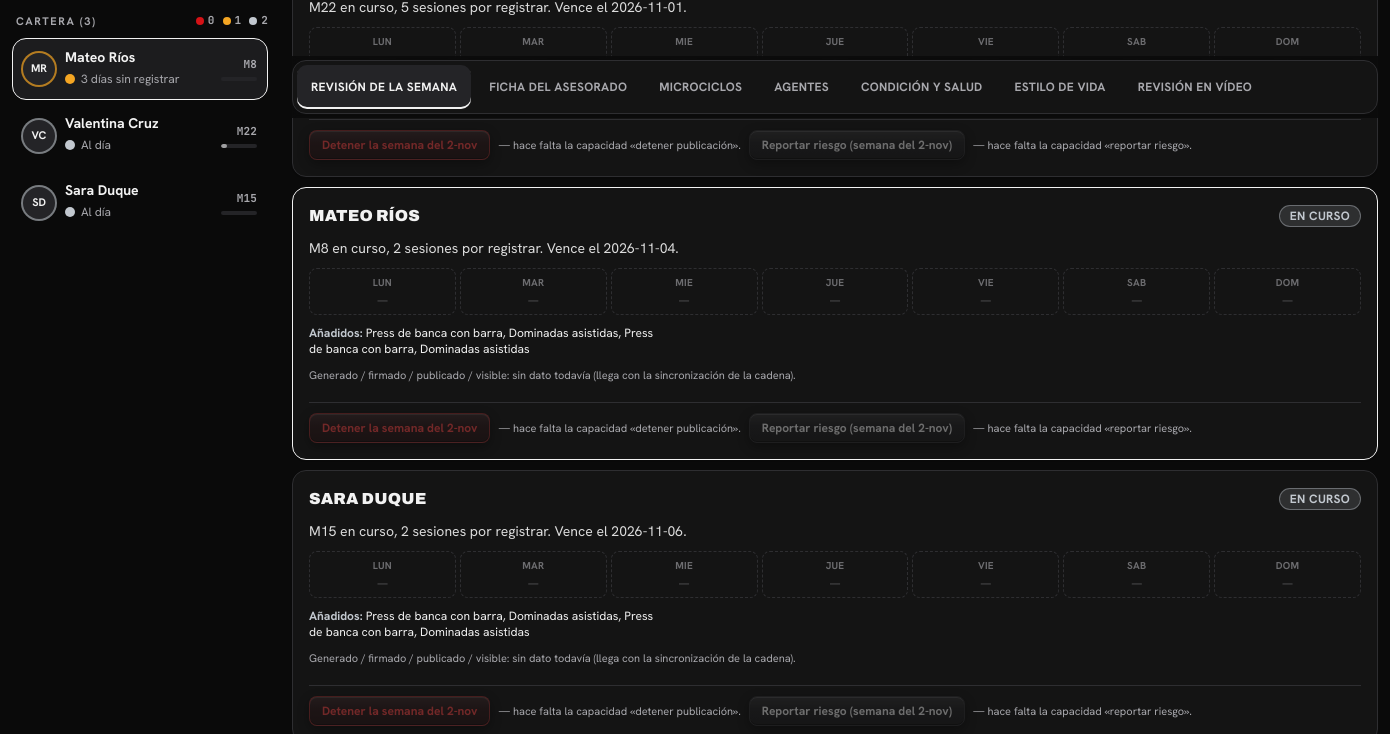
Test: ConsolaCoachPage › desde la Revisión, «Ver ficha» elige a la persona y abre su ficha
(page scrolled)
Click the button "Sara Duque": (401, 499) [309, 487, 492, 511]
(page scrolled)
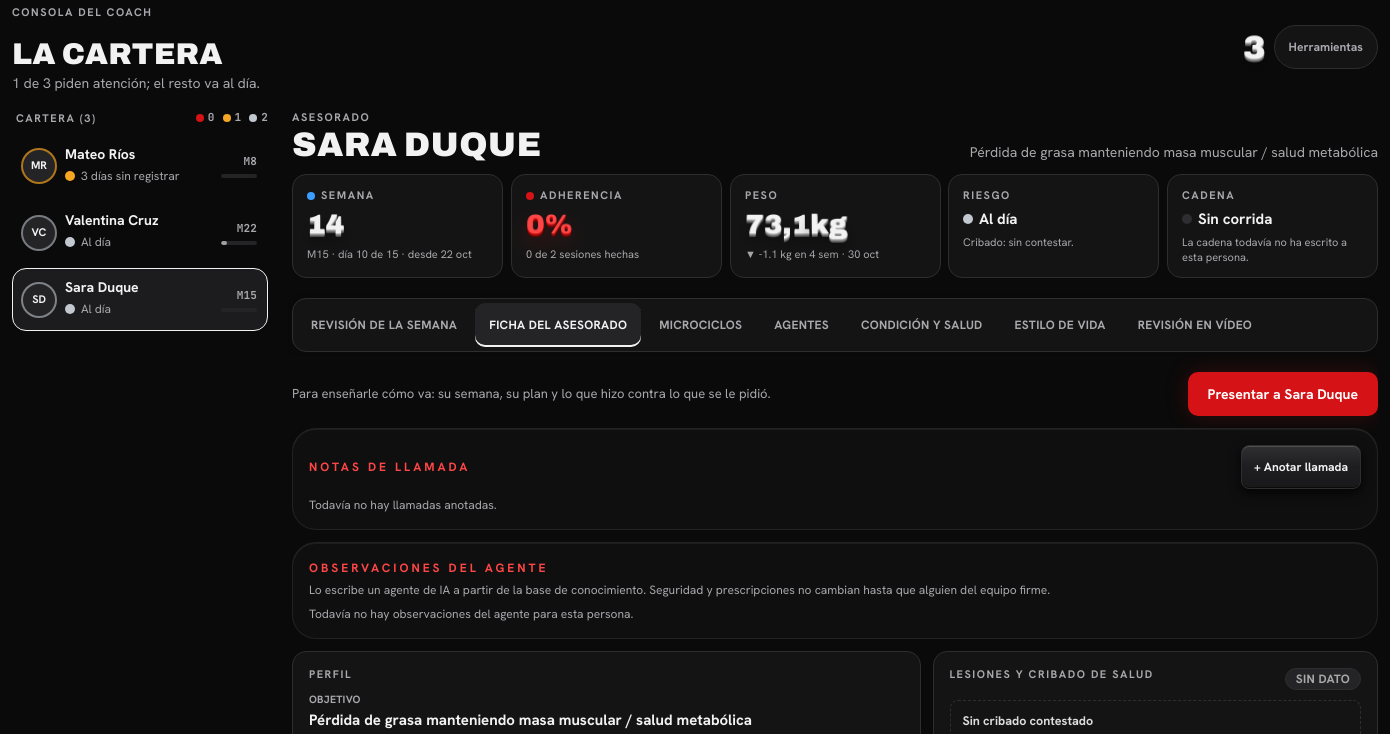
Now the heading "Sara Duque" is shown, box [292, 128, 541, 162]
